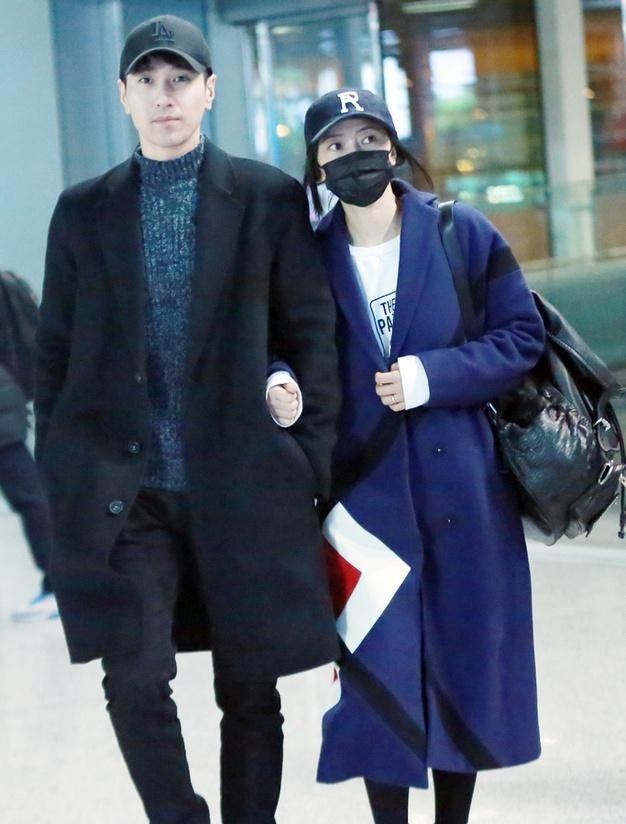Mask: (317, 124, 397, 205)
